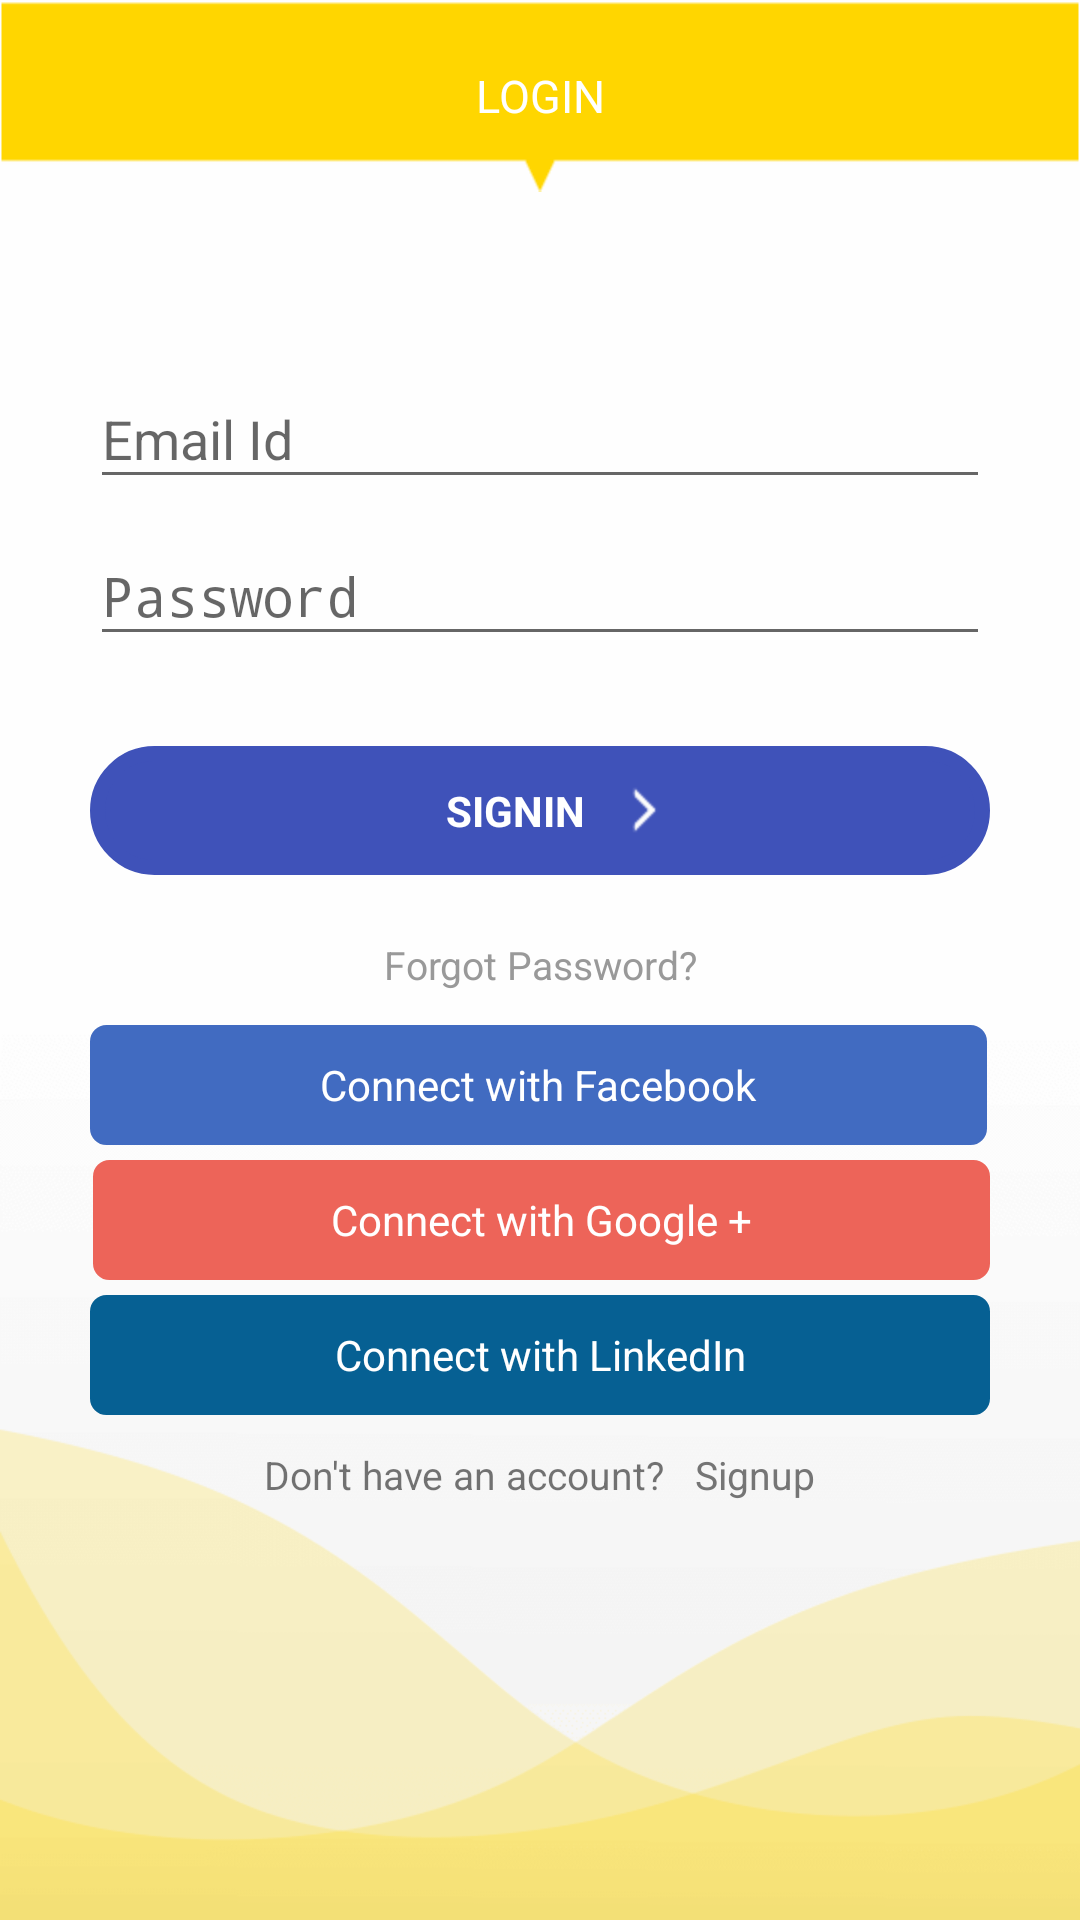

Screen size 1080px×1920px. Icon name, then its center in pixels as point (x, y):
right arrow: point (644, 810)
